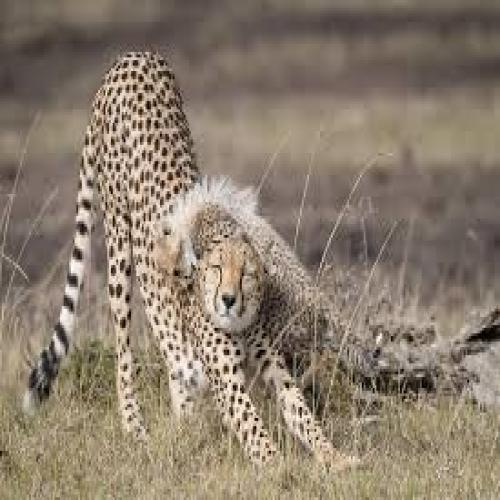cheetah-endangered: (45, 54, 333, 451)
